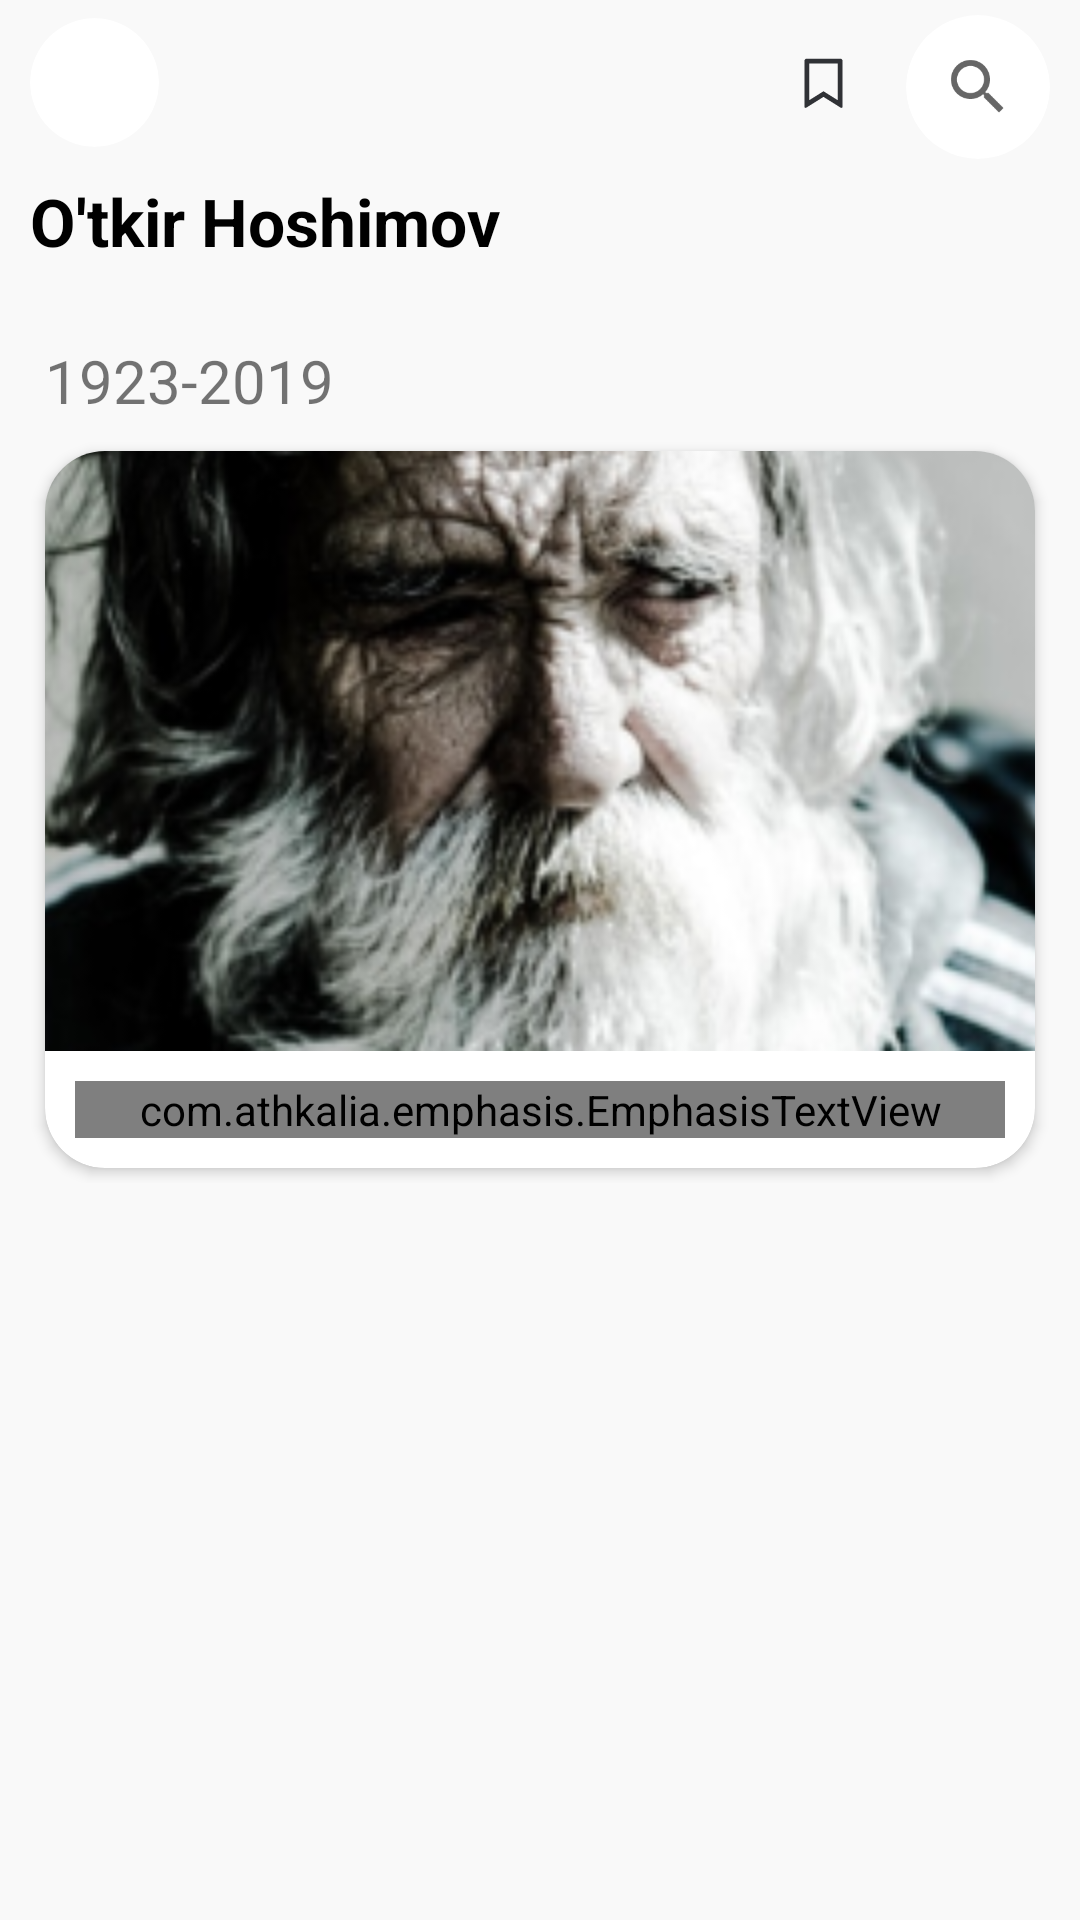

Where icons sit on this 1080 x 1920 app screen, as [x1,y1,x2,y2]:
saqlangan: [804,58,843,108]
